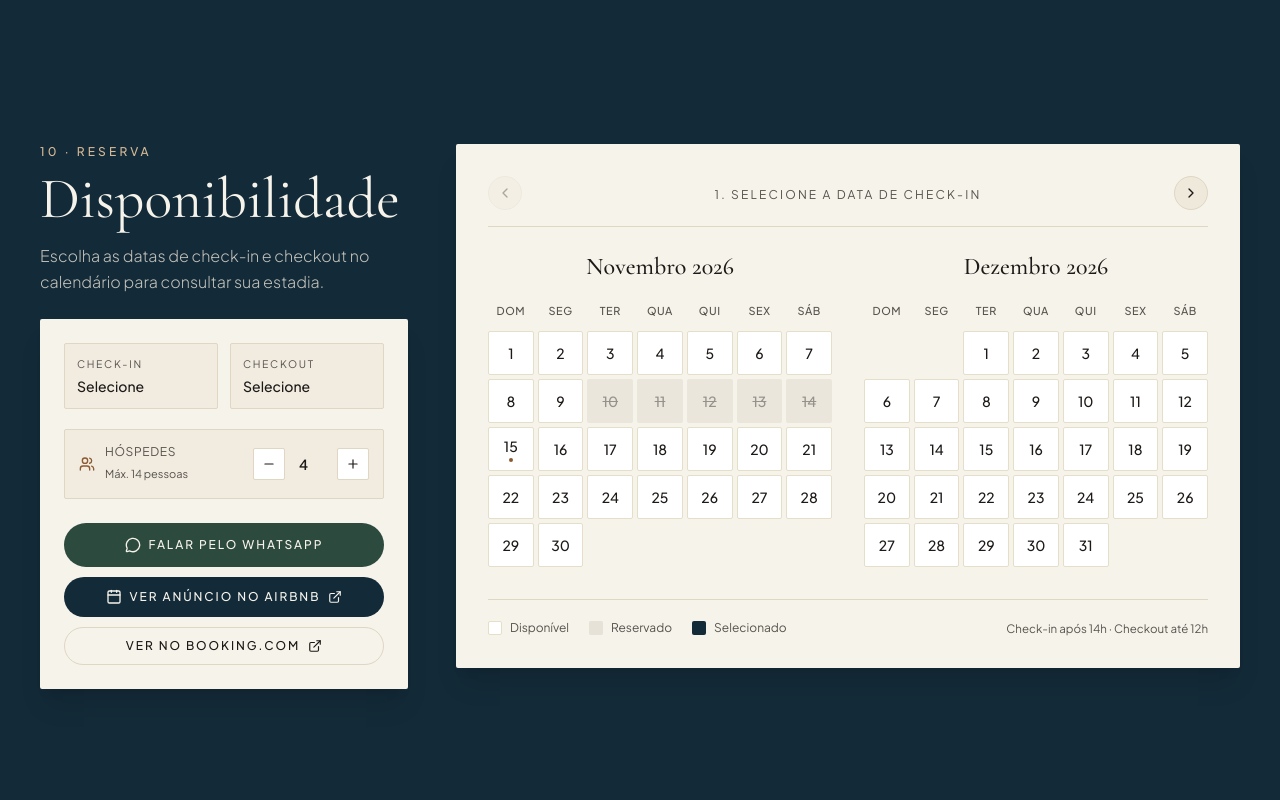
Scenario: Interface Visual, Navegação, Galeria e Calendário Interativo › valida o limite máximo de 14 hóspedes na interface
Replace the text in the number field named "Quantidade de hóspedes" with "18". click: {"x": 311, "y": 464}
box: [291, 454, 331, 474]
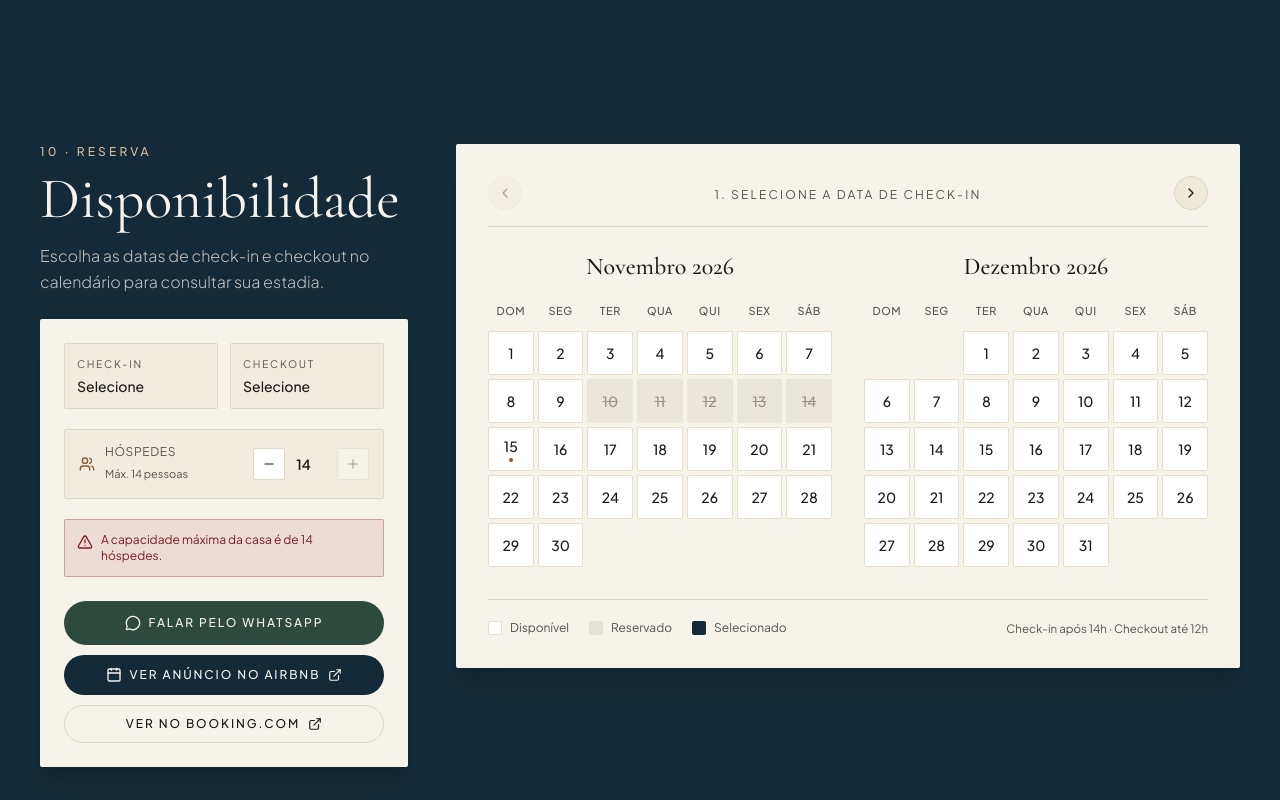
Expected: the number field named "Quantidade de hóspedes" holds "14", [291, 454, 331, 474]
Expected: the message with test id "selection-error" shows "capacidade máxima da casa é de 14 hóspedes", [101, 532, 313, 563]
